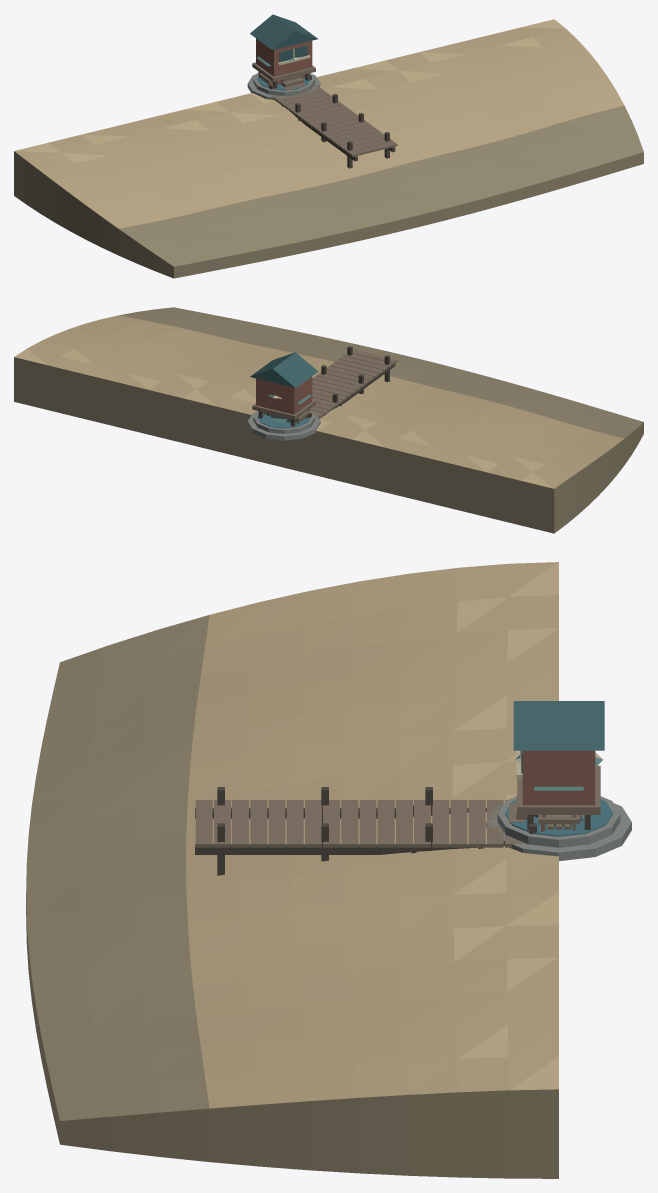
The model's file is gotham_coastal_kit.glb.
3 views of the same model, one above another, from view 1: azimuth 30°, elevation 25°; view 2: azimuth 150°, elevation 25°; view 3: azimuth 270°, elevation 25° (orthographic). The views are drawn at different scales.
Visible parts, largest first — view 1: Sand_curved_foreshore.001, Sand_submerged_foundation.001, Hut_roof.001, Hut_body.001, Fountain_basin.001; view 2: Sand_curved_foreshore.001, Sand_submerged_foundation.001, Hut_body.001, Hut_roof.001, Fountain_plinth.001, Fountain_basin.001, Hut_floor.001; view 3: Sand_curved_foreshore.001, Sand_submerged_foundation.001, Hut_roof.001, Hut_body.001, Fountain_plinth.001, Fountain_basin.001, Jetty_stringer.003, Hut_floor.001, Fountain_water.001, Jetty_plank_4.001, Jetty_plank_5.001, Jetty_plank_9.001 (+6 smaller).
Part boxes in pixels (x1,y1,x2,y2): Sand_curved_foreshore.001: (14, 19, 643, 266); Sand_submerged_foundation.001: (14, 151, 643, 278); Hut_roof.001: (250, 14, 317, 50); Hut_body.001: (256, 38, 312, 76); Fountain_basin.001: (253, 72, 314, 96); Sand_curved_foreshore.001: (14, 307, 643, 488); Sand_submerged_foundation.001: (14, 357, 643, 533); Hut_body.001: (256, 376, 312, 414); Hut_roof.001: (250, 352, 318, 387); Fountain_plinth.001: (247, 411, 320, 440); Fountain_basin.001: (253, 410, 314, 433); Hut_floor.001: (252, 400, 315, 419); Sand_curved_foreshore.001: (26, 562, 558, 1120); Sand_submerged_foundation.001: (26, 893, 558, 1178); Hut_roof.001: (513, 701, 604, 750); Hut_body.001: (522, 750, 595, 805); Fountain_plinth.001: (486, 803, 631, 860); Fountain_basin.001: (497, 796, 620, 847); Jetty_stringer.003: (195, 844, 486, 854); Hut_floor.001: (517, 765, 600, 814); Fountain_water.001: (505, 799, 612, 836); Jetty_plank_4.001: (468, 800, 485, 847); Jetty_plank_5.001: (450, 800, 467, 847); Jetty_plank_9.001: (377, 800, 394, 847).
Bounding box in the file's own units: 24 × 4.55 × 11.65.
